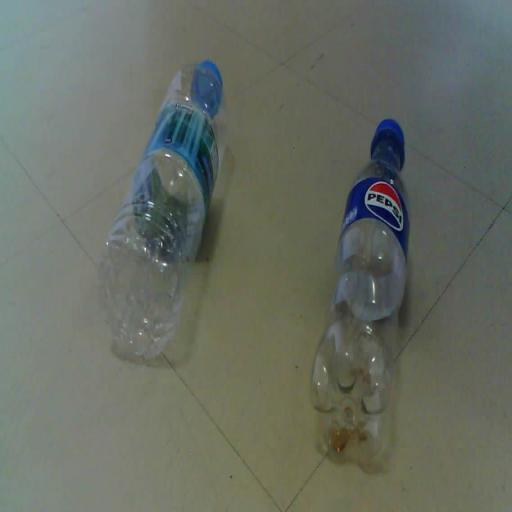bottle: (100, 58, 228, 362), (309, 120, 410, 470)
